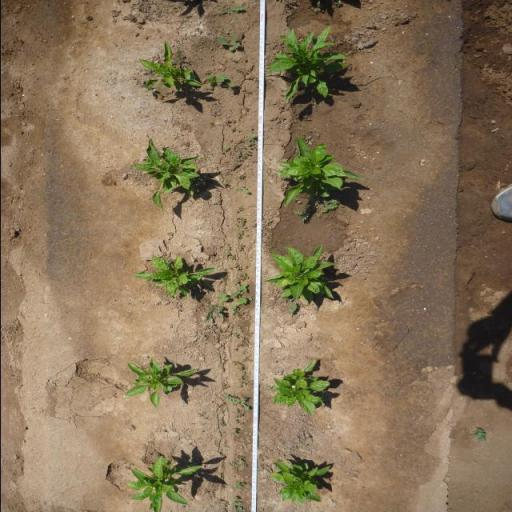plant: (266, 24, 348, 102), (276, 135, 366, 197), (129, 139, 204, 210), (123, 457, 203, 512), (264, 244, 336, 302), (119, 360, 199, 412), (128, 254, 218, 300), (133, 40, 205, 92), (270, 359, 332, 415), (268, 458, 332, 505)
weed: (292, 198, 339, 223), (218, 284, 252, 306), (203, 73, 238, 90), (222, 393, 250, 411), (203, 303, 224, 326), (215, 34, 241, 51), (227, 454, 248, 474), (234, 216, 250, 239), (232, 372, 251, 389), (218, 4, 248, 14), (236, 145, 252, 163), (471, 427, 489, 443), (280, 298, 297, 314), (214, 496, 230, 512), (308, 0, 325, 15), (232, 337, 250, 351), (173, 48, 186, 66), (228, 305, 246, 318), (231, 496, 243, 512), (233, 184, 251, 194), (140, 84, 155, 94), (238, 272, 250, 283), (232, 324, 245, 334), (232, 410, 246, 419), (246, 134, 256, 146), (233, 206, 246, 215), (296, 442, 310, 450), (222, 333, 238, 340), (231, 482, 246, 489), (232, 262, 242, 272), (232, 419, 246, 426), (222, 118, 234, 126), (219, 383, 230, 391), (333, 0, 343, 8), (237, 244, 245, 253), (188, 457, 200, 463), (293, 197, 301, 204), (231, 427, 238, 435), (222, 145, 229, 152), (242, 106, 250, 112), (182, 141, 190, 147), (240, 172, 246, 180), (222, 250, 230, 256), (231, 280, 239, 286), (236, 366, 244, 372), (237, 115, 244, 121), (229, 127, 236, 133), (243, 90, 252, 94), (229, 255, 235, 261), (232, 362, 241, 366), (312, 307, 319, 312), (143, 355, 149, 360), (227, 243, 230, 250)
